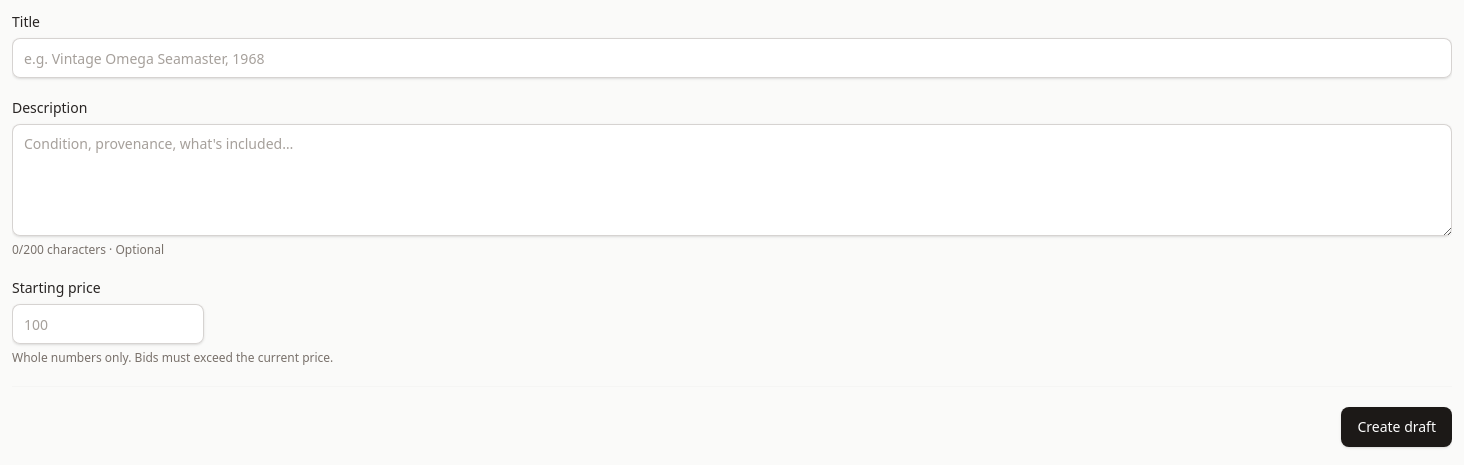
ProductForm › rejects non-positive prices
This screenshot has width=1464, height=465.
Type "Desk lamp" into the field labelled "Title" at x=732, y=58, box [12,38,1452,78]
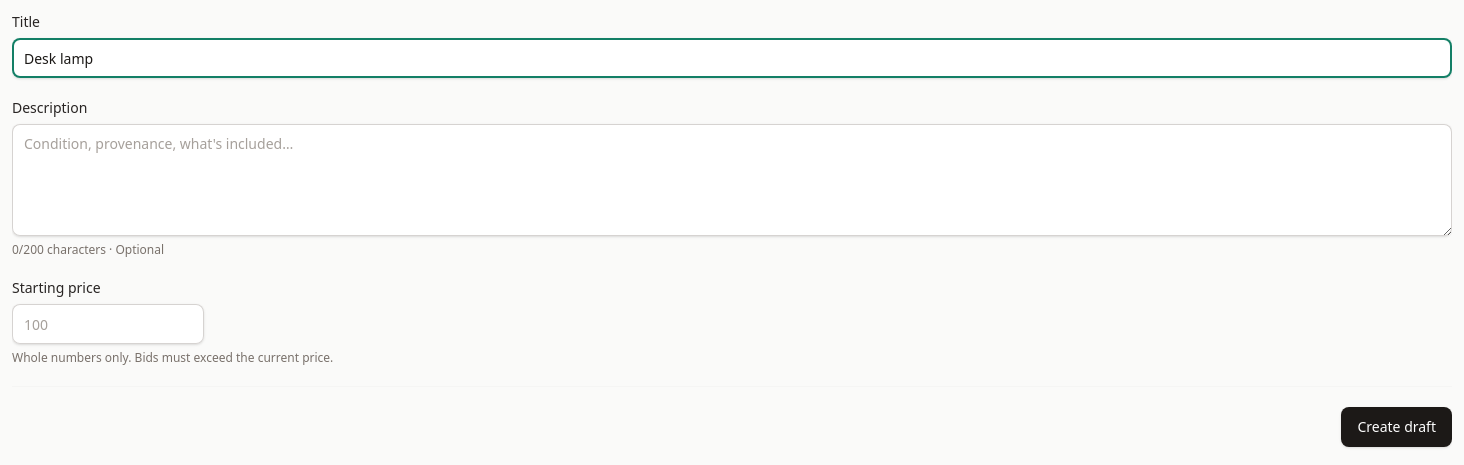
Type "0" into the number field labelled "Starting price" at x=108, y=324, box [12,304,204,344]
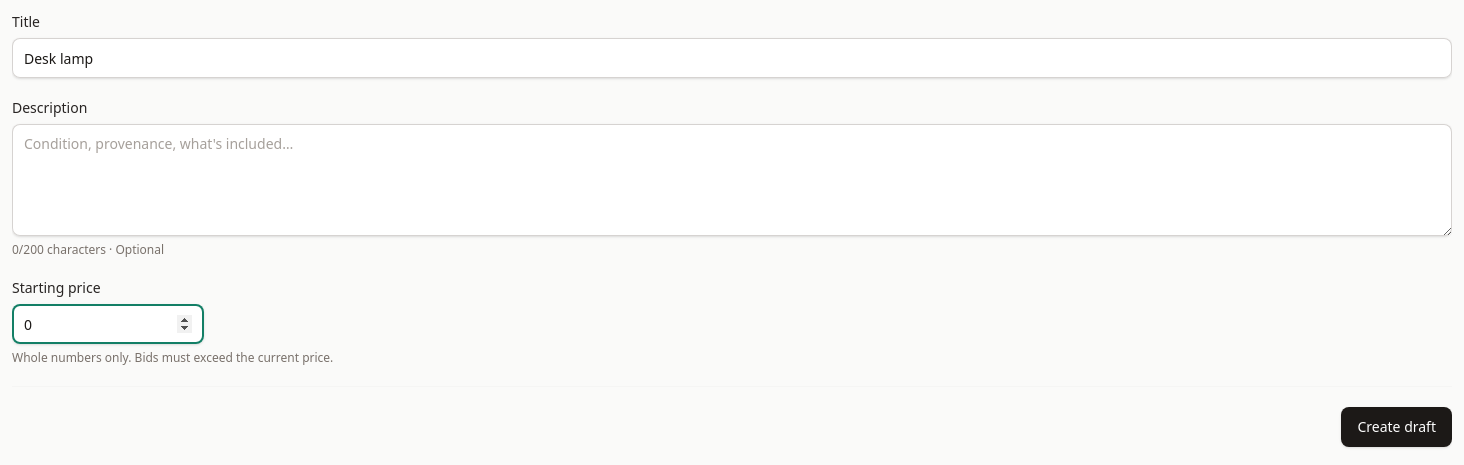
Click the button "Create draft" at x=1397, y=427, box [1342,407,1452,447]
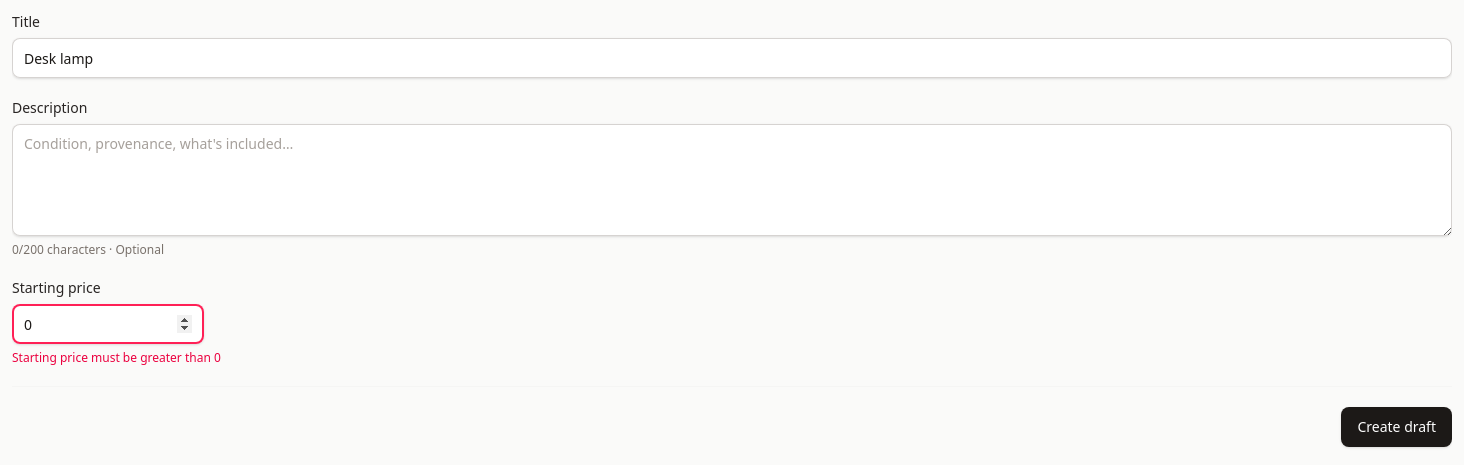
Expected: the text "Starting price must be greater than 0" is shown, [12,349,221,366]
